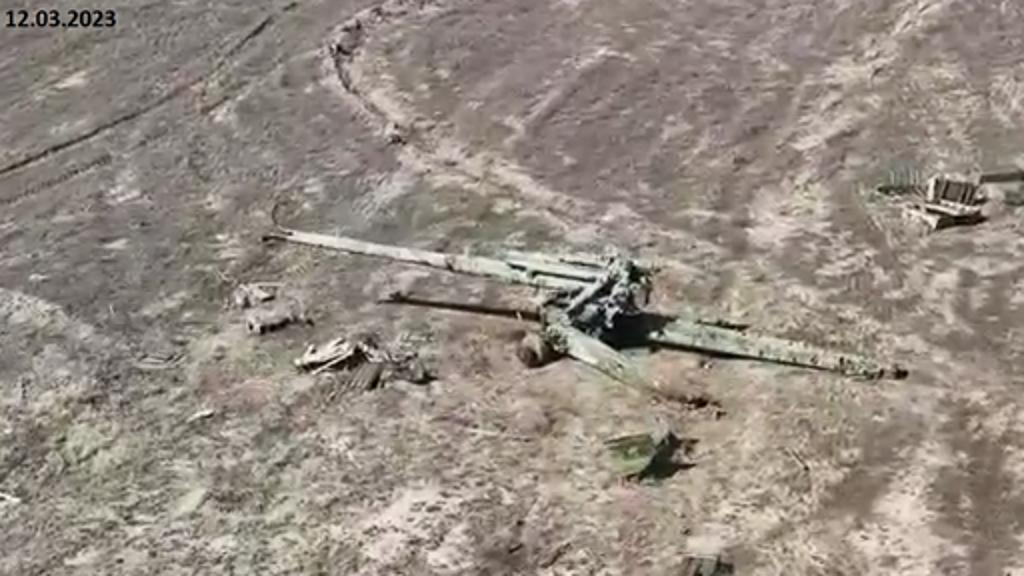ART: (260, 218, 902, 414)
